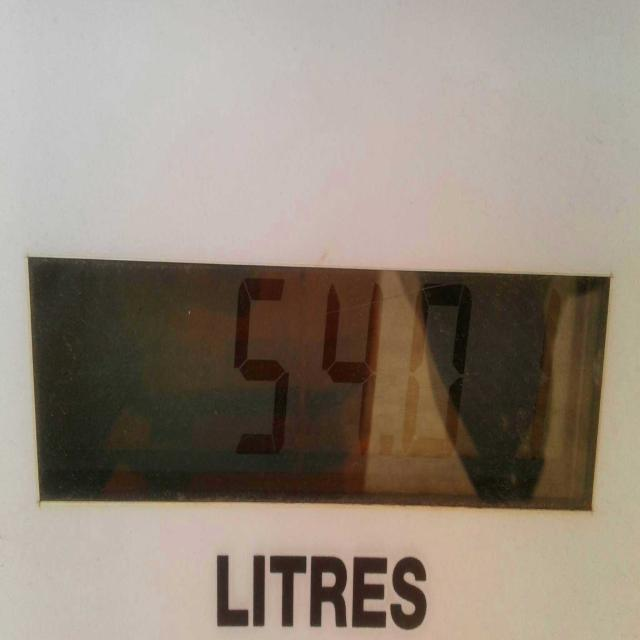.: (382, 427, 395, 463)
0: (406, 286, 469, 466)
1: (516, 288, 560, 481)
4: (322, 281, 381, 464)
5: (234, 275, 288, 462)
